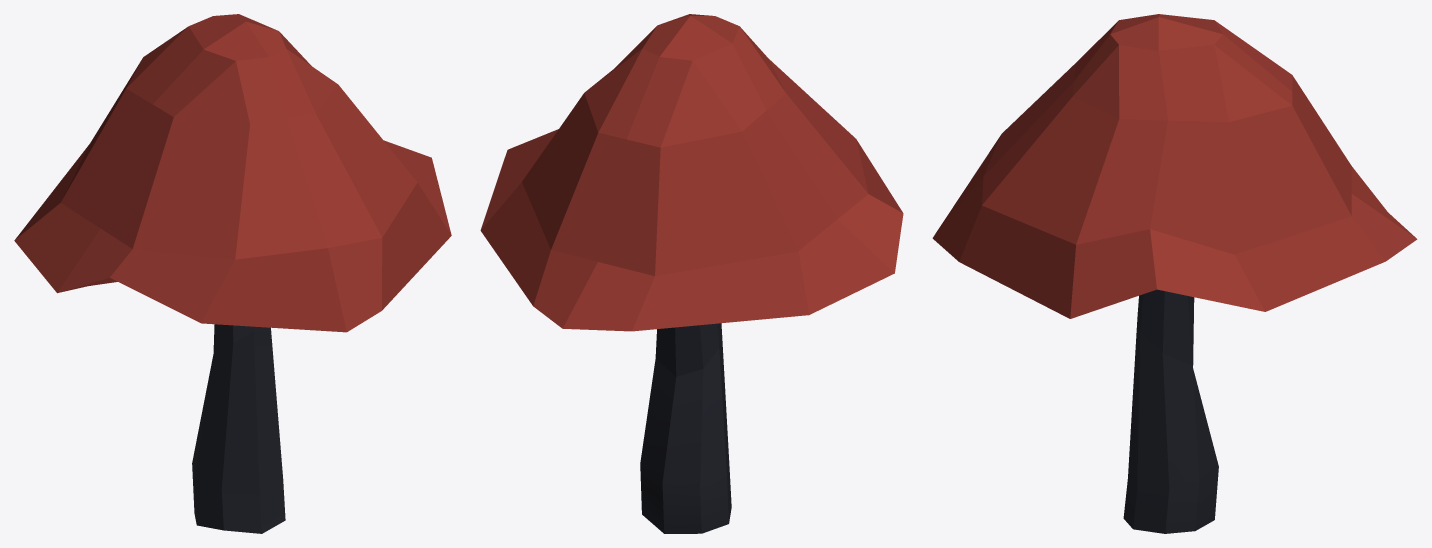
File: Mushroom3.fbx
The picture shows the model from 3 angles, left to right: view 1: azimuth 30°, elevation 25°; view 2: azimuth 150°, elevation 25°; view 3: azimuth 270°, elevation 25°; orthographic projection.
Visible parts, largest first — view 1: Mushroom3; view 2: Mushroom3; view 3: Mushroom3.
Boxes of the visible parts, box(x1,y1,x2,y2) form: Mushroom3: box(14, 14, 451, 533); Mushroom3: box(480, 14, 903, 533); Mushroom3: box(932, 14, 1417, 533).
Size of the model in its own units: 1.34 by 1.68 by 1.46.
